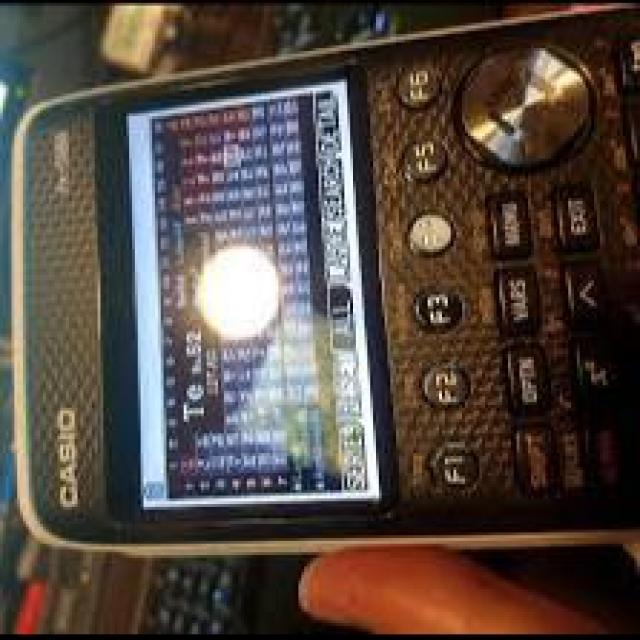Calculator: (0, 6, 637, 572)
